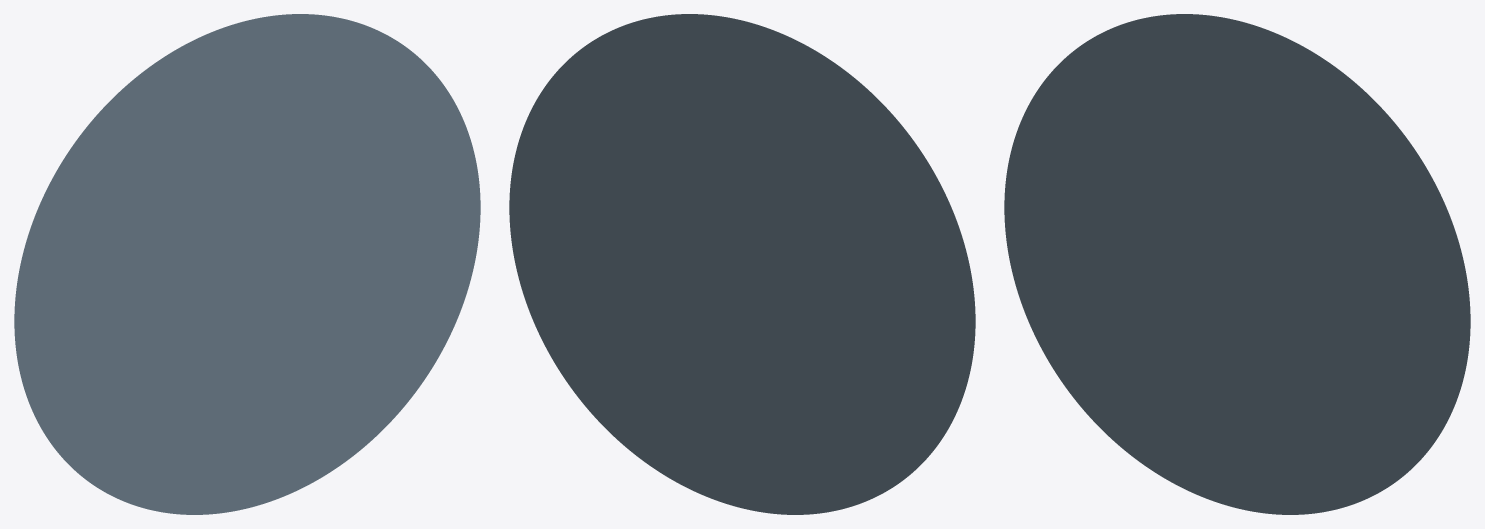
File: v5_fan.obj
3 views of the same model, side by side, from view 1: azimuth 30°, elevation 25°; view 2: azimuth 150°, elevation 25°; view 3: azimuth 330°, elevation 25° (orthographic).
Bounding box in the file's own units: 5 × 5 × 0.
